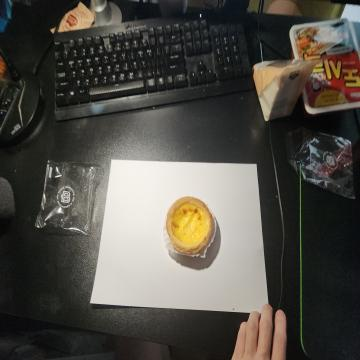EggTart: (166, 194, 213, 255)
